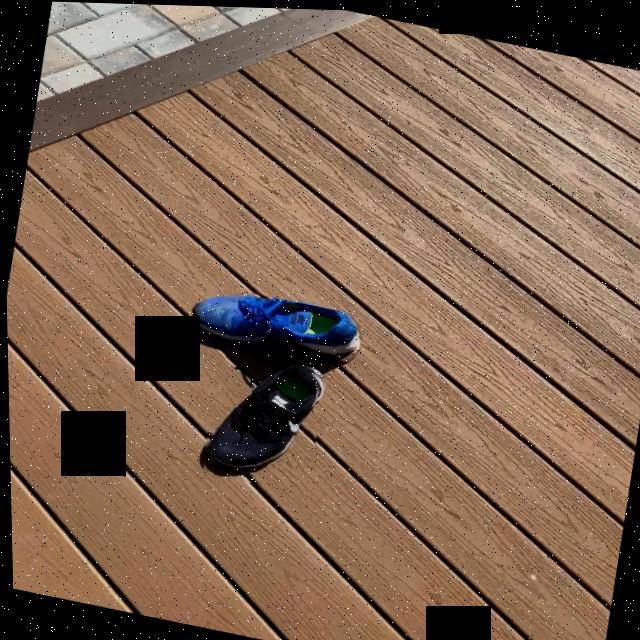shoe: (201, 367, 322, 476), (186, 295, 356, 357)
